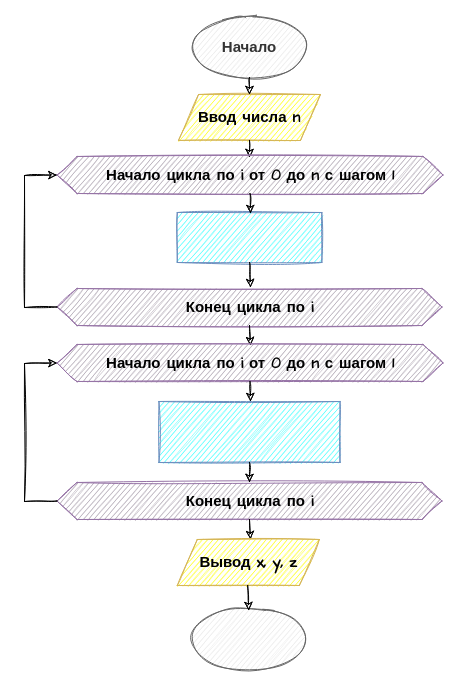
Some shapes in this 461 by 687 pixel diagram are drawn without their labels. Each missing label, with the box of its shape:
x += (xi * pi) / (pSum) y += (yi * pi) / (pSum) z += (zi * pi) / (pSum): (158, 400, 340, 462)
Ввод x i , y i , z i , p i pSum += p i: (176, 212, 322, 262)
Конец: (187, 608, 308, 670)
